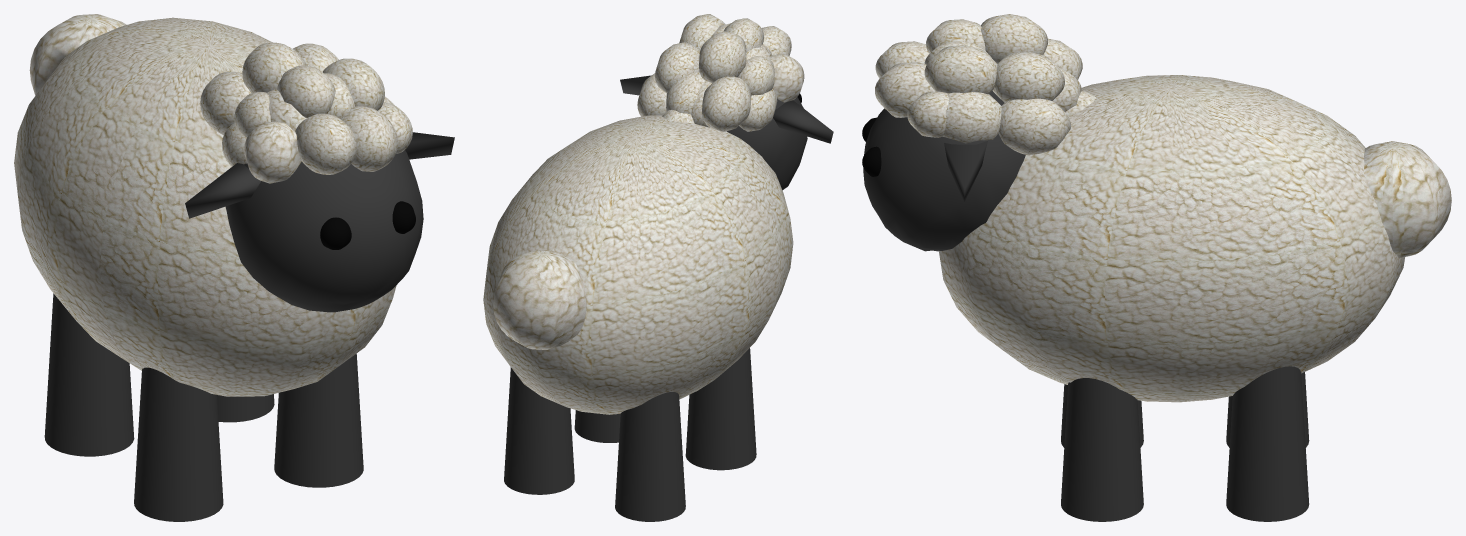
Rendered from sheep.fbx.
The picture shows the model from 3 angles, left to right: view 1: azimuth 30°, elevation 25°; view 2: azimuth 150°, elevation 25°; view 3: azimuth 270°, elevation 25°; orthographic projection. The views are drawn at different scales.
Parts seen in each view (by area): view 1: Body, Cylinder.001; view 2: Body, Cylinder.001; view 3: Body, Cylinder.001.
Boxes of the visible parts, x1,y1,x2,y2 form: Body: [14, 14, 454, 396]; Cylinder.001: [44, 293, 363, 521]; Body: [483, 14, 833, 414]; Cylinder.001: [504, 348, 756, 521]; Body: [862, 14, 1451, 402]; Cylinder.001: [1061, 366, 1309, 521].
Size of the model in its own units: 64.52 by 99.73 by 119.
